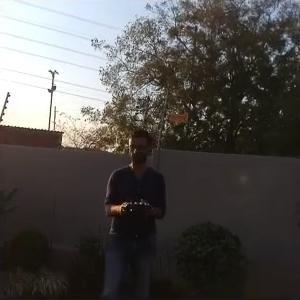follow: (97, 120, 170, 299)
